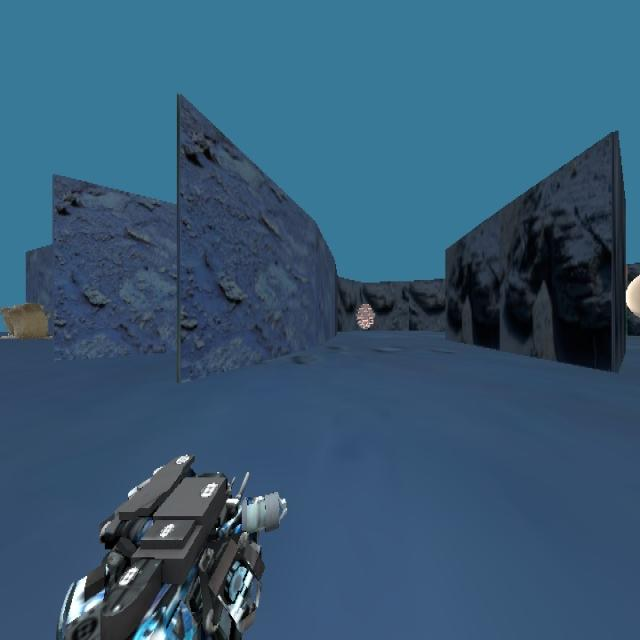Circle: (625, 272, 639, 317)
Ice: (0, 281, 58, 352)
Mushroom: (356, 302, 375, 330)
